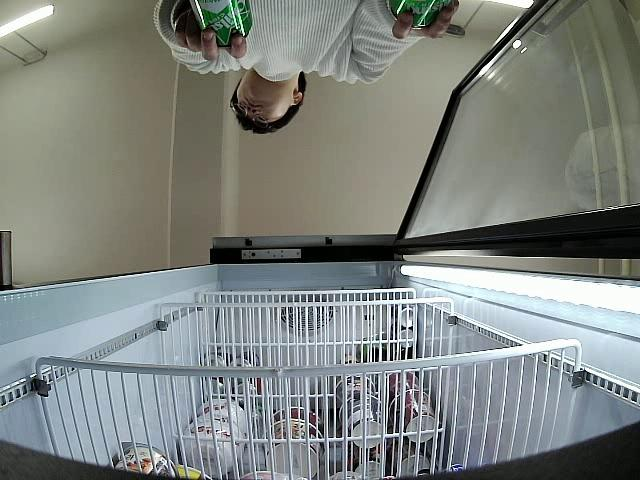00_hand: (172, 10, 248, 60), (391, 0, 462, 40)
12_chilsungCider: (189, 0, 253, 48), (389, 0, 454, 29)
